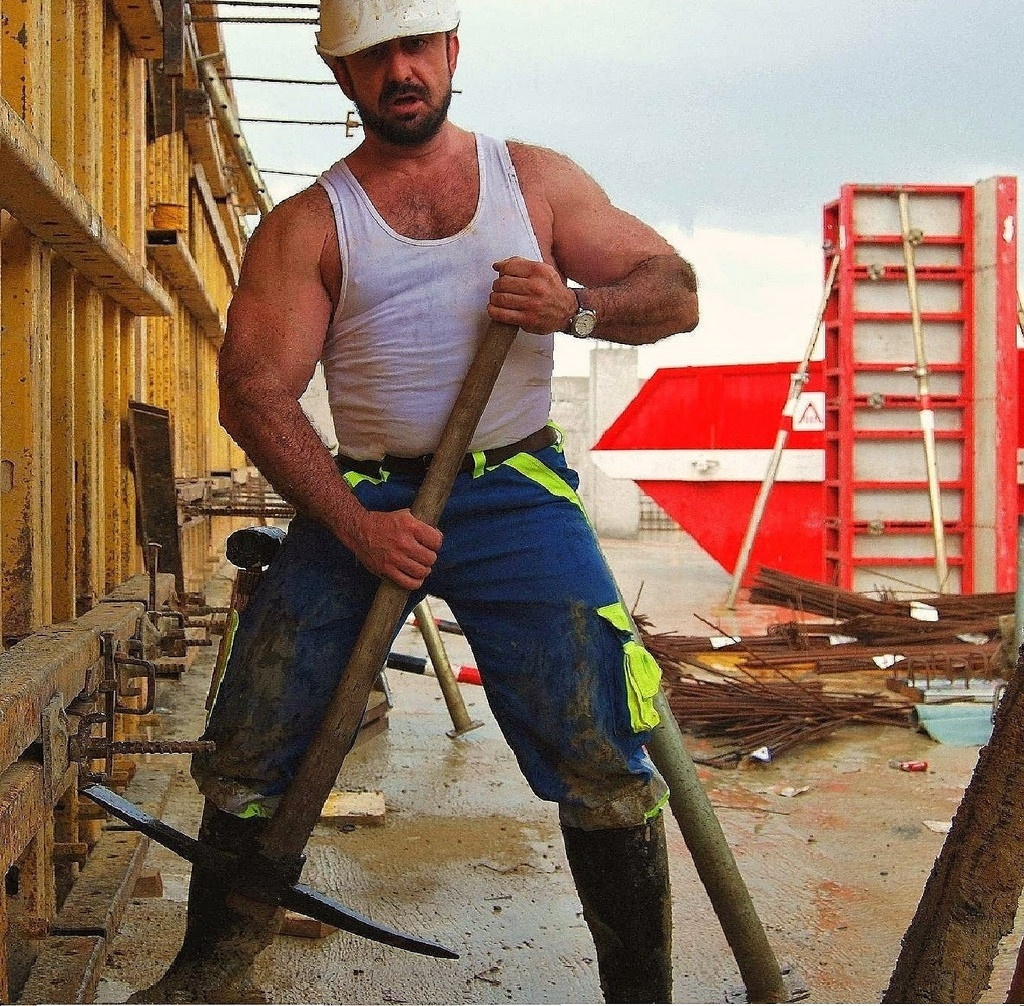white: (305, 3, 475, 150)
